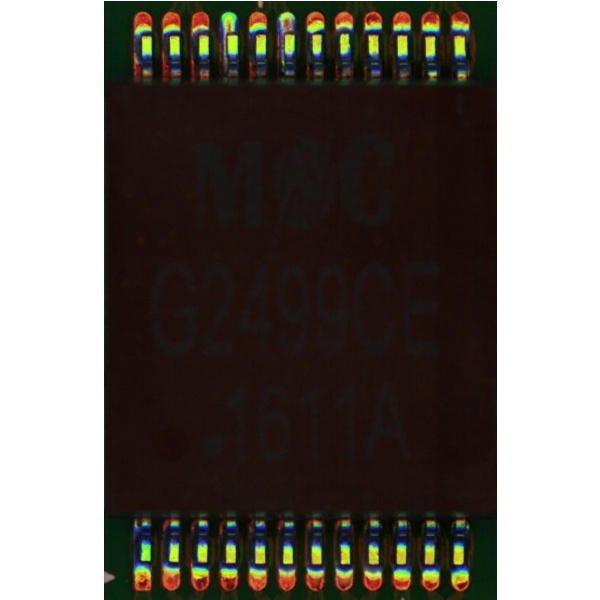Bad_podu: (283, 19, 292, 38), (225, 21, 234, 40)
Bad_qiaojiao: (221, 31, 226, 72), (279, 33, 284, 72)
